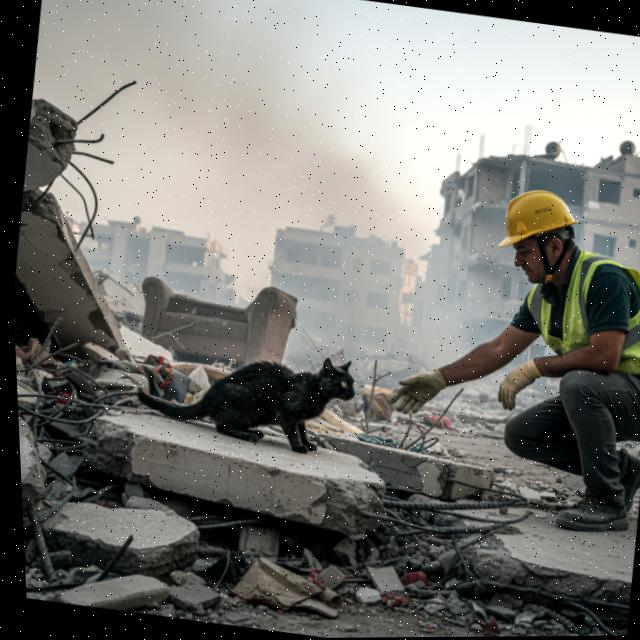cat: (129, 327, 376, 463)
rescuer: (365, 164, 640, 552)
